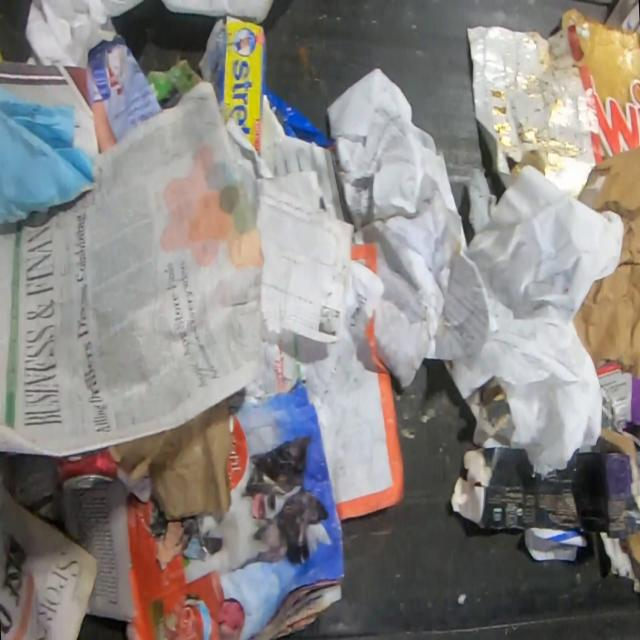cardboard: (449, 426, 640, 595), (209, 14, 337, 153), (572, 145, 640, 381), (106, 394, 232, 521), (559, 5, 640, 164), (0, 57, 100, 157), (479, 378, 505, 406)
metal: (50, 448, 120, 492)
